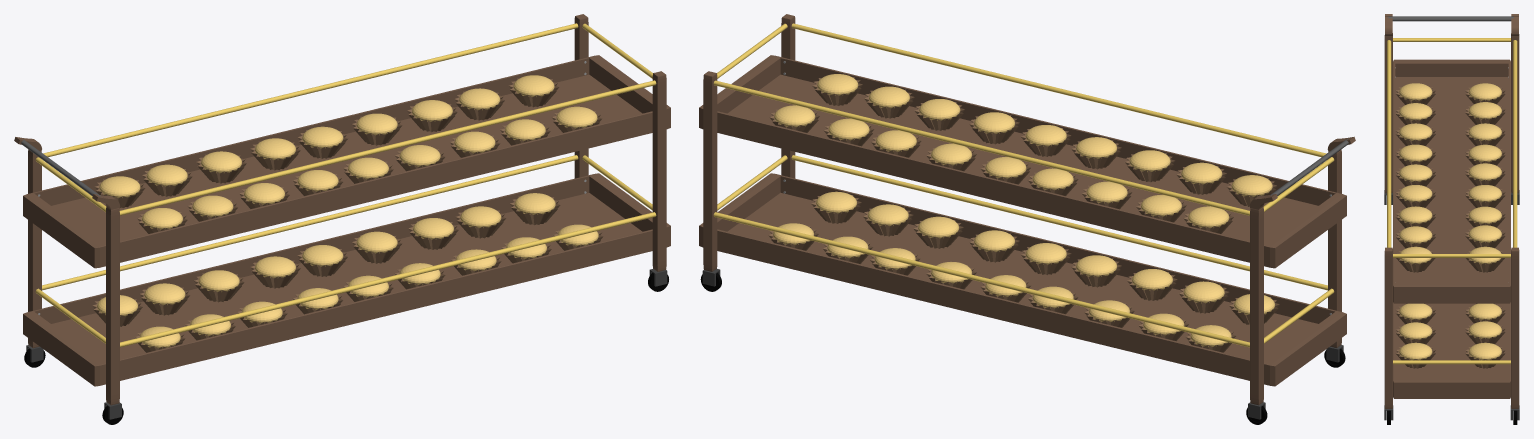
The model's file is Muffin Cart.fbx.
3 renders of one model, left to right at view 1: azimuth 30°, elevation 25°; view 2: azimuth 150°, elevation 25°; view 3: azimuth 270°, elevation 25°, orthographic. The views are drawn at different scales.
Visible parts, largest first — view 1: Sphere.005; view 2: Sphere.005; view 3: Sphere.005.
Part boxes in pixels (box(x1,y1,x2,y2)): Sphere.005: box(14, 14, 670, 424); Sphere.005: box(699, 14, 1355, 424); Sphere.005: box(1384, 14, 1519, 424).
Size of the model in its own units: 671 by 257 by 168.
